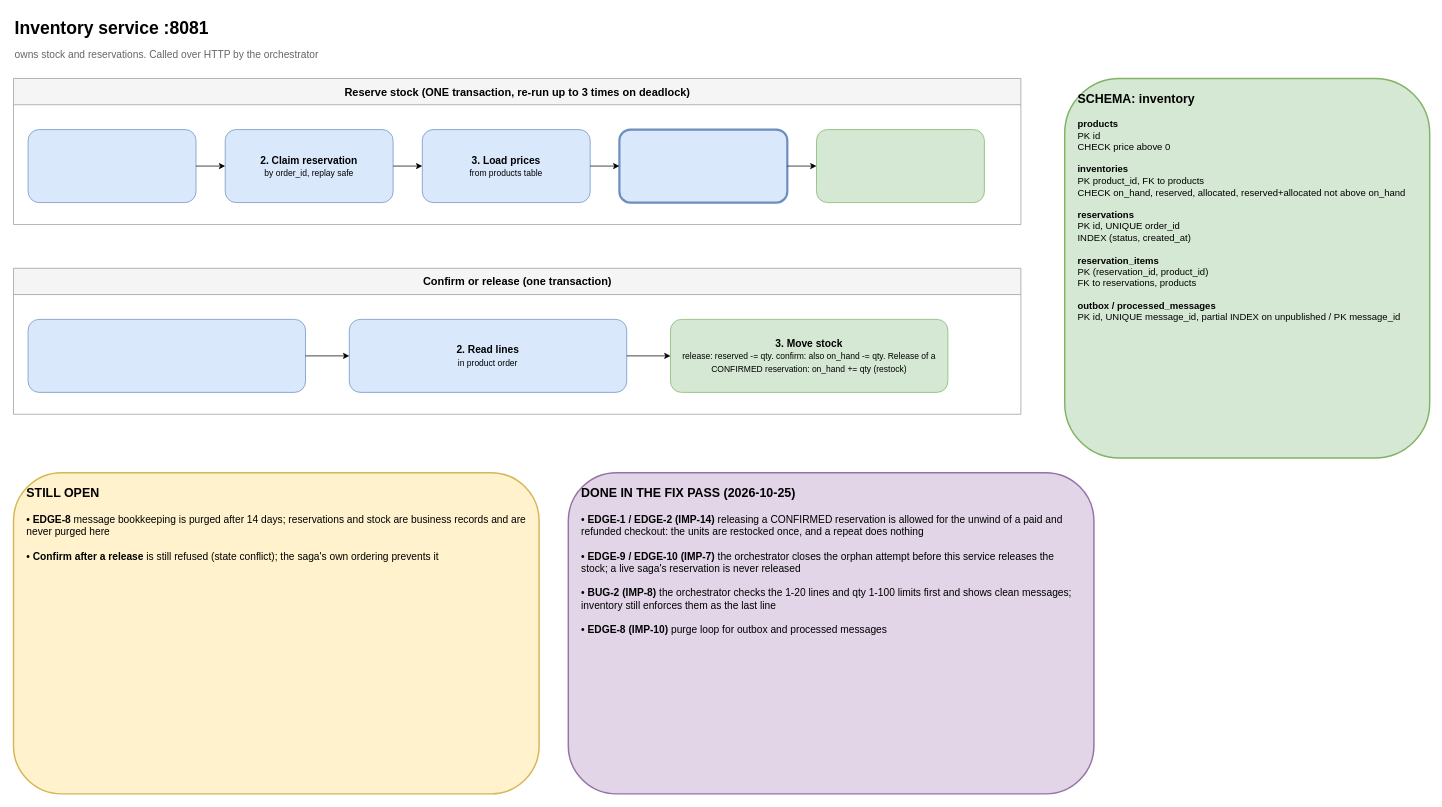
Image size: 1442x807. Some labels were removed from this diagram. The shapes that lost their labels are listed below. From the top down, each one's centre as x and y in pixels, then its label:
At (x=111, y=166): "1. Validate 1-20 lines, qty 1-100".
At (x=703, y=165): "4. Lock + reserve sorted order, only if stock".
At (x=900, y=166): "5. Save items, RESERVED, total".
At (x=166, y=355): "1. Guarded status change RESERVED to CONFIRMED / RELEASED".
